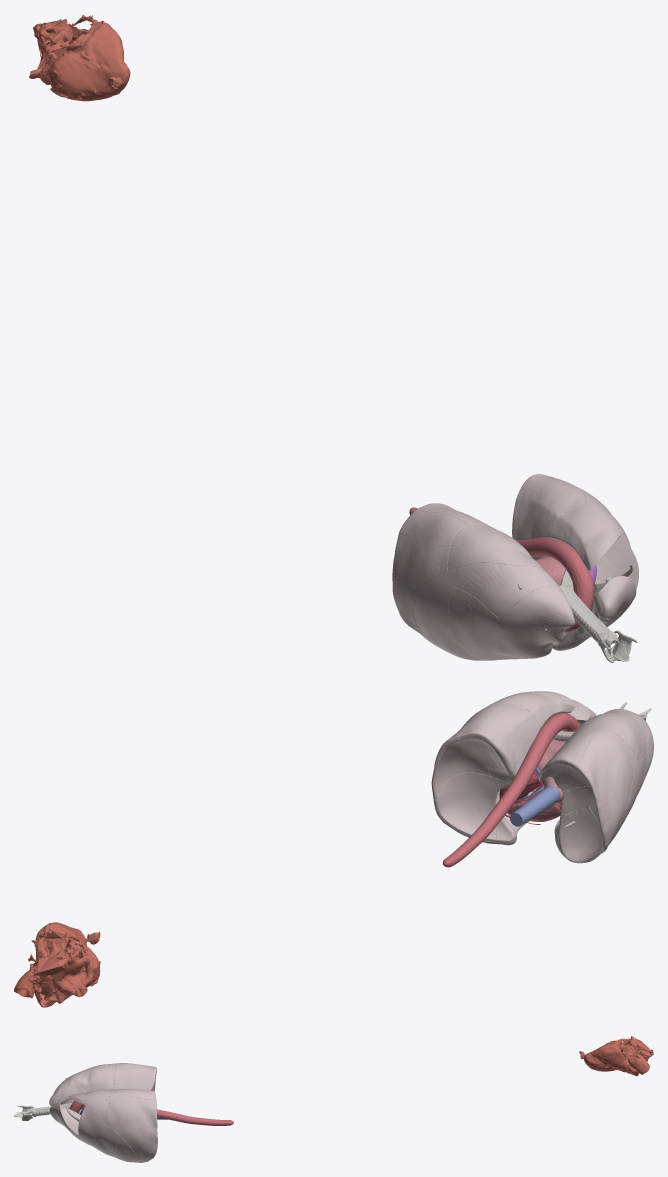
Rendered from corazon-segmentado.glb.
The picture shows the model from 3 angles, top to bottom: view 1: azimuth 30°, elevation 25°; view 2: azimuth 150°, elevation 25°; view 3: azimuth 270°, elevation 25°; orthographic projection. The views are drawn at different scales.
Parts seen in each view (by area): view 1: pulmones, corazon, aorta, traquea; view 2: pulmones, corazon, aorta, venas_cavas, ventriculo_derecho; view 3: pulmones, corazon, aorta, laringe.
Part boxes in pixels (x1,y1,x2,y2): pulmones: (392, 474, 638, 660); corazon: (29, 15, 130, 101); aorta: (409, 507, 594, 632); traquea: (559, 585, 610, 642); pulmones: (431, 691, 653, 863); corazon: (14, 922, 100, 1007); aorta: (443, 713, 580, 867); venas_cavas: (510, 786, 559, 826); ventriculo_derecho: (507, 784, 560, 821); pulmones: (49, 1063, 157, 1162); corazon: (579, 1036, 653, 1076); aorta: (69, 1101, 233, 1125); laringe: (14, 1105, 36, 1120).
Size of the model in its own units: 255 by 314 by 1430.
